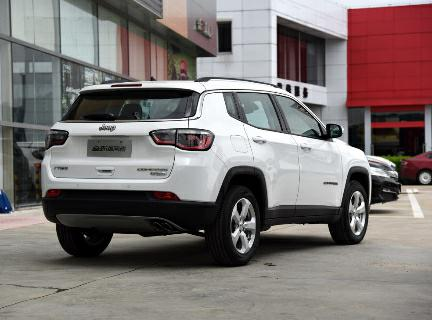Jeep-指南者: (30, 74, 380, 269)
